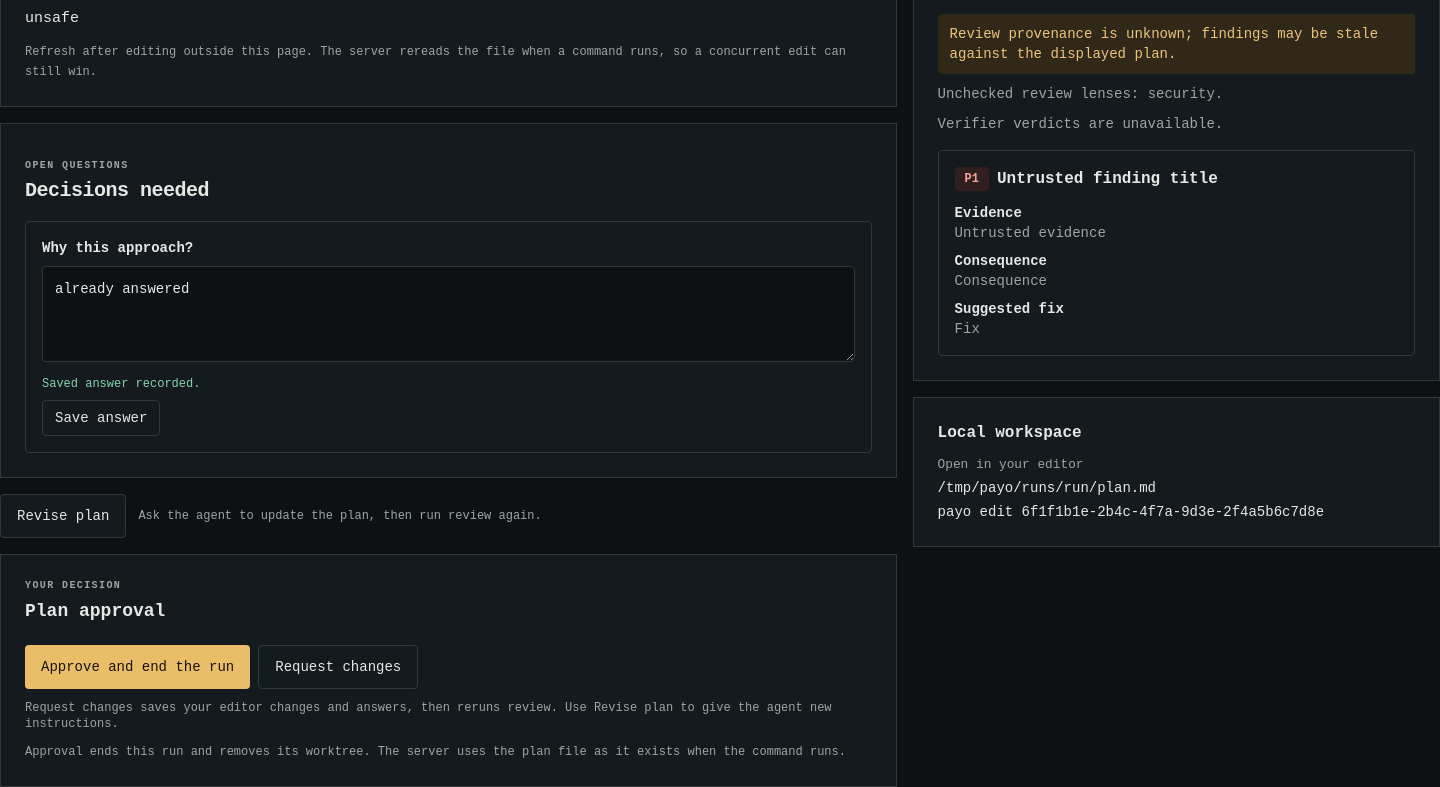
prevents decisions on a failed pre-command refresh and offers a retry
The width and height of the screenshot is (1440, 787).
Later steps or results of the test are not shown.
(page scrolled)
Click the button "Approve and end the run" at [138, 667], box 25,645 -> 250,689
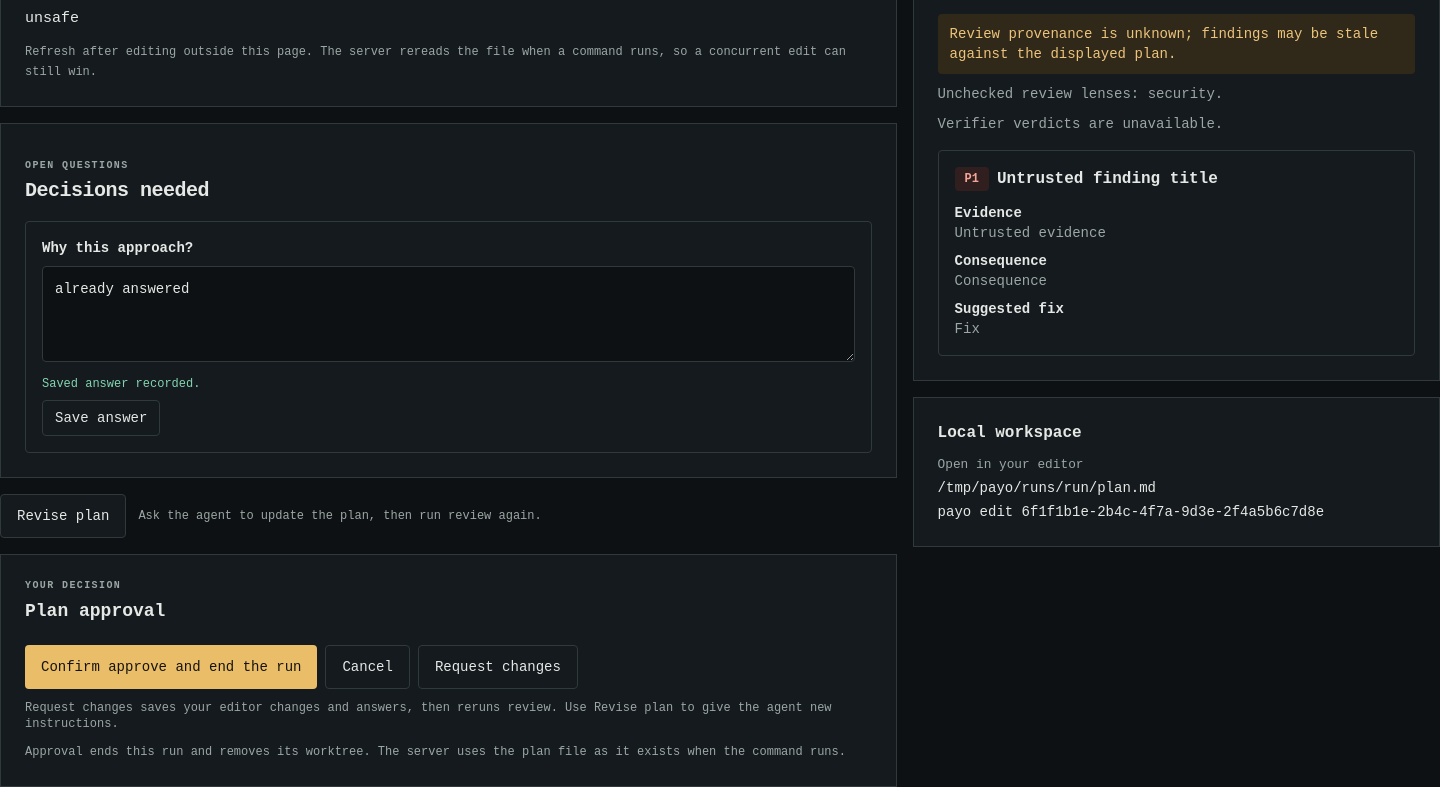
Click the button "Confirm approve and end the run" at [171, 667], box 25,645 -> 318,689
(page scrolled)
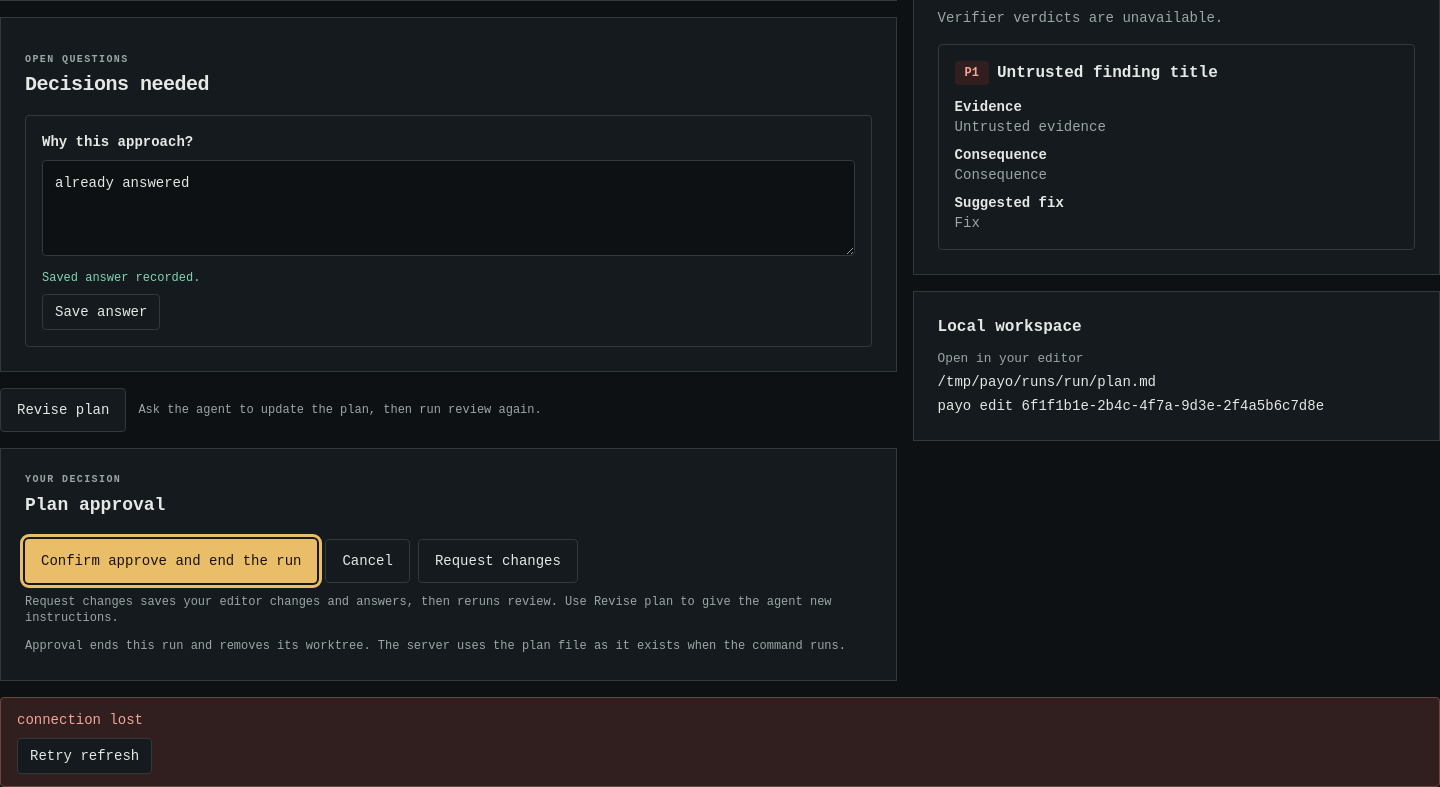
Expected: the message shows "connection lost", 17,712 -> 143,728
